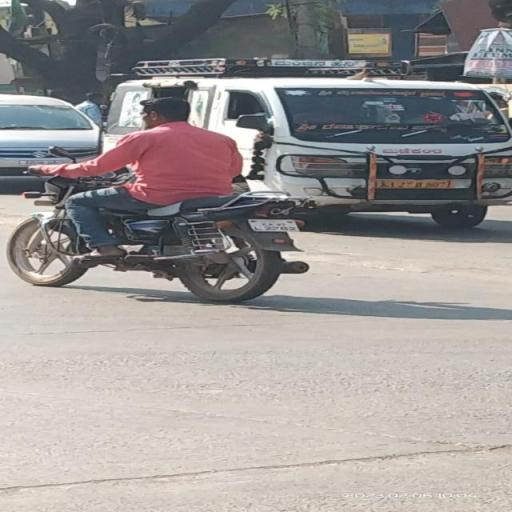bike: (4, 93, 310, 303)
numberplate: (250, 218, 302, 234)
withouthelmet: (140, 98, 188, 126)
